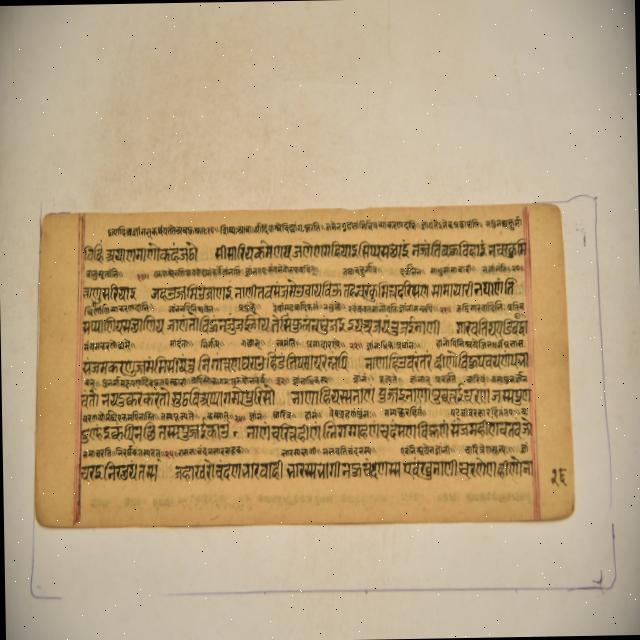text_paragraph: (32, 205, 570, 523)
